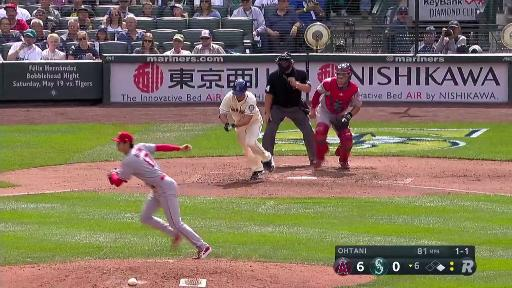pitcher: (106, 131, 212, 260)
